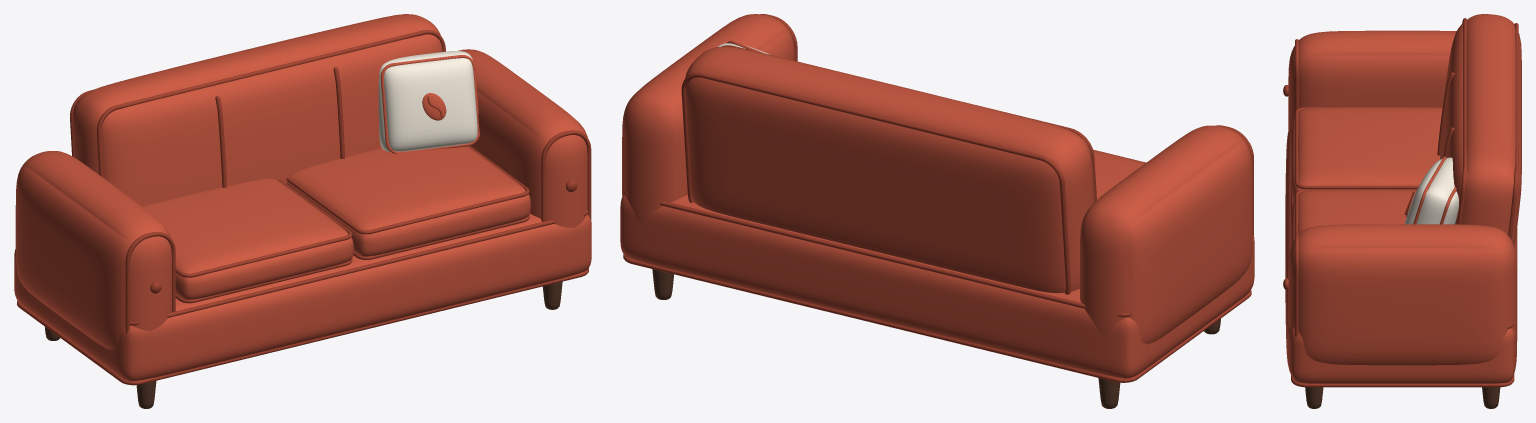
Rendered from Sofa-Em-Nga.glb.
The picture shows the model from 3 angles, left to right: view 1: azimuth 30°, elevation 25°; view 2: azimuth 150°, elevation 25°; view 3: azimuth 270°, elevation 25°; orthographic projection. The views are drawn at different scales.
Visible parts, largest first — view 1: Sofa_Lung, Sofa_De, Sofa_TayVin_R, Sofa_Dem_L, Sofa_Dem_R, Sofa_TayVin_L, Sofa_GoiOm, Sofa_De_VienMz, Sofa_Lung_VienMy, Sofa_De_VienPz, Sofa_Dem_L_VienPz, Sofa_Dem_R_VienPz (+6 smaller); view 2: Sofa_Lung, Sofa_De, Sofa_TayVin_R, Sofa_TayVin_L, Sofa_Lung_VienPy, Sofa_De_VienMz, Sofa_De_VienPz, Sofa_Dem_R; view 3: Sofa_TayVin_L, Sofa_Lung, Sofa_TayVin_R, Sofa_Dem_R, Sofa_De, Sofa_Dem_L, Sofa_GoiOm, Sofa_De_VienMz, Sofa_Dem_R_VienPz, Sofa_Lung_VienPy, Sofa_Lung_VienMy, Sofa_Lung_DuongChia (+6 smaller).
Part boxes in pixels (<box>): Sofa_Lung: <box>72,14,442,206</box>; Sofa_De: <box>14,213,591,381</box>; Sofa_TayVin_R: <box>15,151,171,349</box>; Sofa_Dem_L: <box>286,146,530,256</box>; Sofa_Dem_R: <box>142,178,353,299</box>; Sofa_TayVin_L: <box>458,49,587,227</box>; Sofa_GoiOm: <box>378,51,477,152</box>; Sofa_De_VienMz: <box>17,268,588,385</box>; Sofa_Lung_VienMy: <box>96,30,445,177</box>; Sofa_De_VienPz: <box>130,210,588,325</box>; Sofa_Dem_L_VienPz: <box>286,146,529,234</box>; Sofa_Dem_R_VienPz: <box>175,179,352,277</box>; Sofa_Lung: <box>685,46,1094,293</box>; Sofa_De: <box>620,195,1254,378</box>; Sofa_TayVin_R: <box>1080,125,1252,344</box>; Sofa_TayVin_L: <box>622,14,794,222</box>; Sofa_Lung_VienPy: <box>681,72,1070,294</box>; Sofa_De_VienMz: <box>623,254,1251,382</box>; Sofa_De_VienPz: <box>623,190,1131,317</box>; Sofa_Dem_R: <box>1093,150,1144,199</box>; Sofa_TayVin_L: <box>1288,224,1516,365</box>; Sofa_Lung: <box>1440,14,1521,247</box>; Sofa_TayVin_R: <box>1288,30,1456,131</box>; Sofa_Dem_R: <box>1291,107,1442,201</box>; Sofa_De: <box>1285,131,1517,383</box>; Sofa_Dem_L: <box>1291,189,1416,246</box>; Sofa_GoiOm: <box>1405,157,1458,224</box>; Sofa_De_VienMz: <box>1291,374,1514,387</box>; Sofa_Dem_R_VienPz: <box>1295,107,1442,189</box>; Sofa_Lung_VienPy: <box>1508,23,1518,240</box>; Sofa_Lung_VienMy: <box>1457,18,1467,224</box>; Sofa_Lung_DuongChia: <box>1437,72,1454,156</box>.
Bounding box in the file's own units: 2.04 × 0.9642 × 0.9178.
